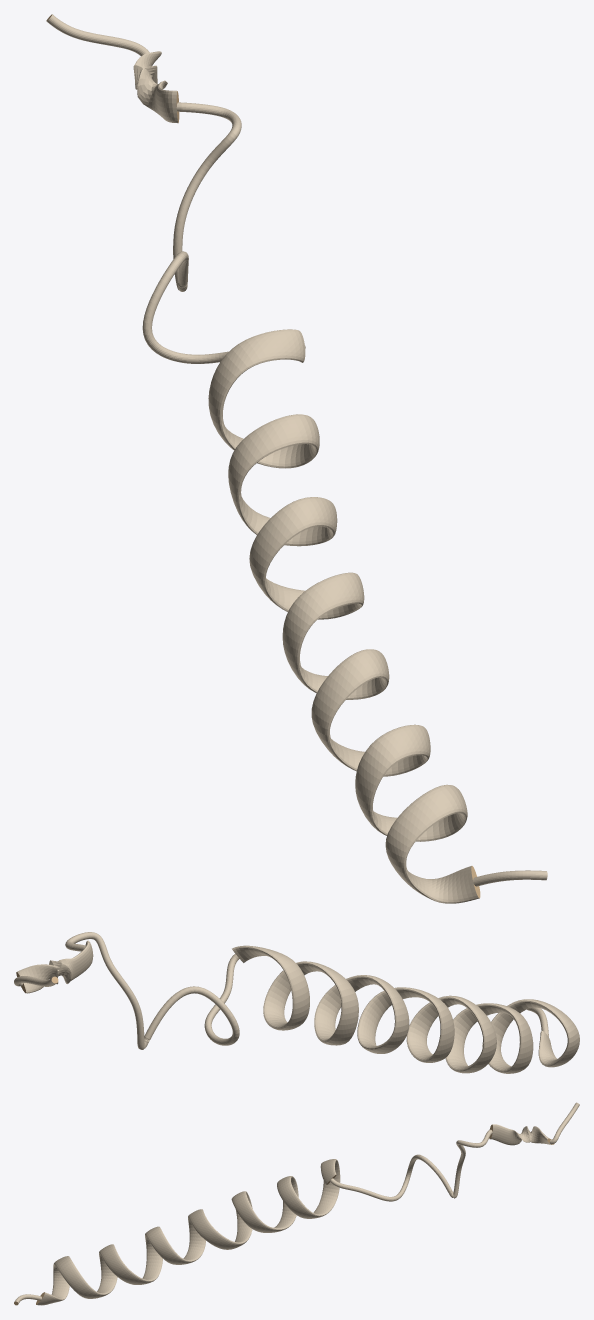
The model's file is rCoilrCoilfCoil.dae.
3 renders of one model, top to bottom at view 1: azimuth 30°, elevation 25°; view 2: azimuth 150°, elevation 25°; view 3: azimuth 270°, elevation 25°, orthographic. The views are drawn at different scales.
Parts seen in each view (by area): view 1: Shape_IndexedTriangleStripSet_041; view 2: Shape_IndexedTriangleStripSet_041; view 3: Shape_IndexedTriangleStripSet_041.
Boxes of the visible parts, bbox=[...] form: Shape_IndexedTriangleStripSet_041: bbox=[46, 14, 547, 903]; Shape_IndexedTriangleStripSet_041: bbox=[14, 932, 579, 1073]; Shape_IndexedTriangleStripSet_041: bbox=[14, 1102, 579, 1305].
Size of the model in its own units: 15.92 by 60.39 by 27.55.
